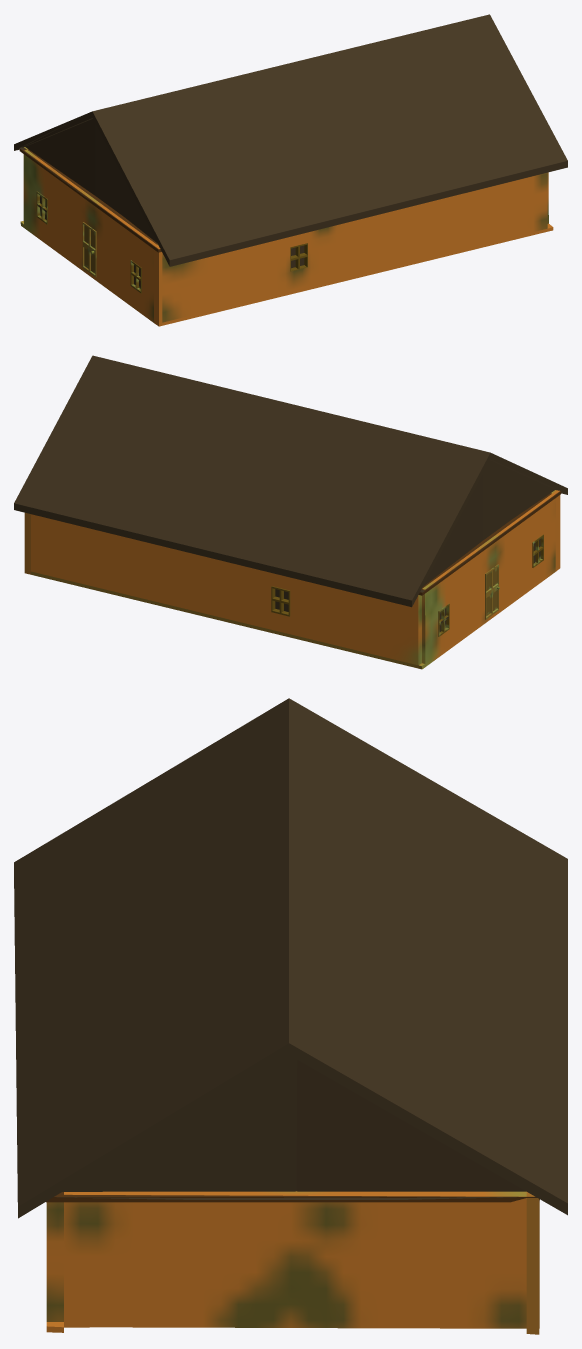
File: Casa 3 Puzzle 2.fbx
3 views of the same model, one above another, from view 1: azimuth 30°, elevation 25°; view 2: azimuth 150°, elevation 25°; view 3: azimuth 270°, elevation 25° (orthographic). The views are drawn at different scales.
Parts seen in each view (by area): view 1: Cube.020, Cube.011, Cube.021, Plane.019; view 2: Cube.020, Cube.011, Cube.021, Plane.019; view 3: Cube.020, Cube.011, Cube.006, Plane.019.
Part boxes in pixels (x1=…): Cube.020: x1=14, y1=14, x2=567, y2=266; Cube.011: x1=20, y1=147, x2=553, y2=326; Cube.021: x1=19, y1=119, x2=156, y2=242; Plane.019: x1=19, y1=148, x2=161, y2=252; Cube.020: x1=14, y1=355, x2=567, y2=607; Cube.011: x1=24, y1=490, x2=560, y2=669; Cube.021: x1=420, y1=460, x2=560, y2=592; Plane.019: x1=418, y1=491, x2=561, y2=595; Cube.020: x1=14, y1=698, x2=567, y2=1218; Cube.011: x1=46, y1=1191, x2=539, y2=1334; Cube.006: x1=57, y1=1055, x2=525, y2=1199; Plane.019: x1=46, y1=1192, x2=539, y2=1202.
Size of the model in its own units: 20974 by 8195 by 13999.
1 material, 1 textured.
